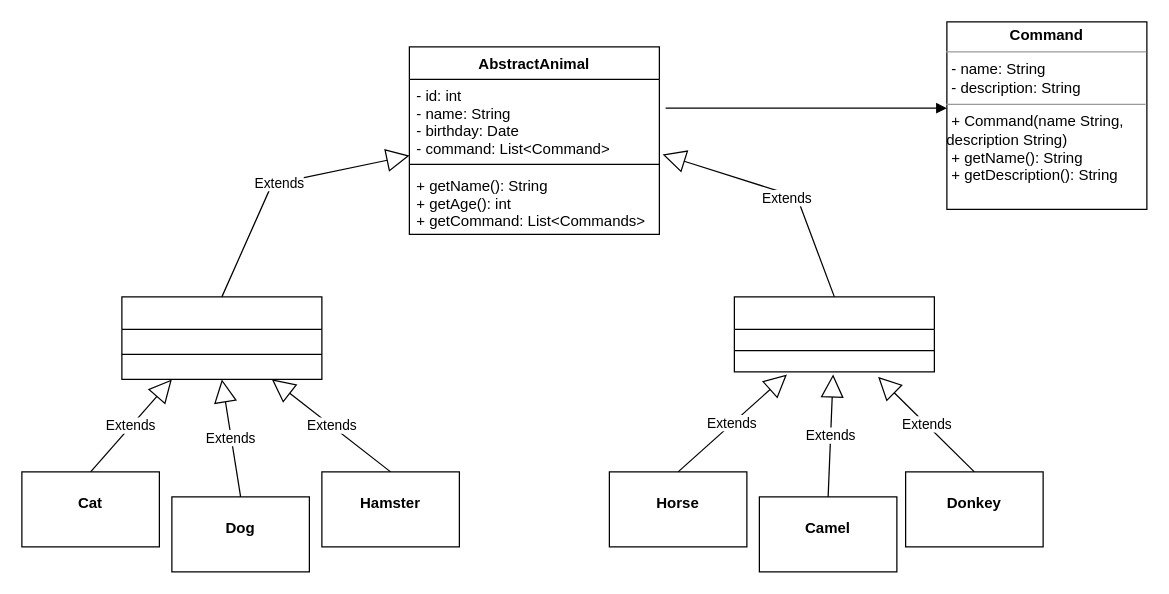
Image size: 1169x594. Some labels were removed from this diagram. The centre of each missing label's shape, as x and y in pixels:
"AbstractPackAnimals" belongs at pixel 833 334.
"AbstractPets" belongs at pixel 221 337.
